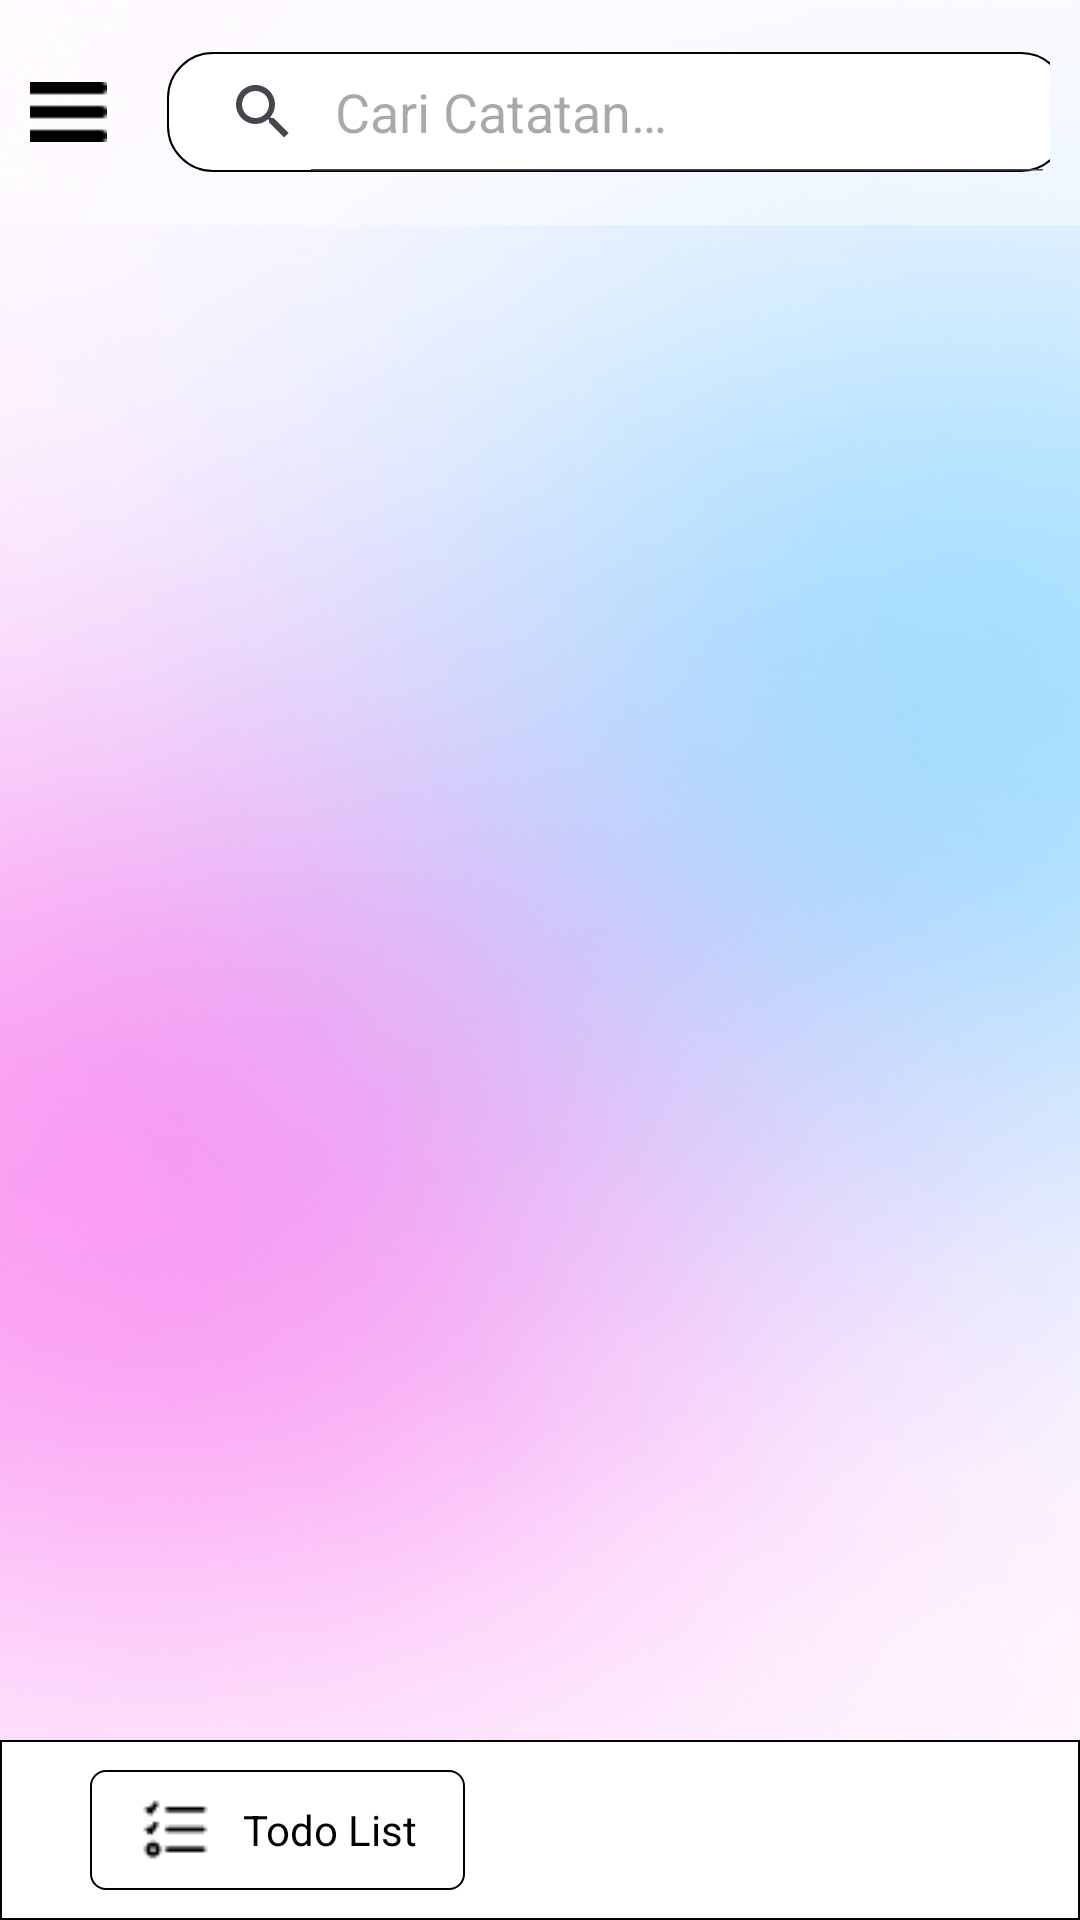

Icon bounding boxes for this 1080*1920 phone screenshot, format (x1, y1, x2, y2):
sidebar: (30, 82, 107, 142)
